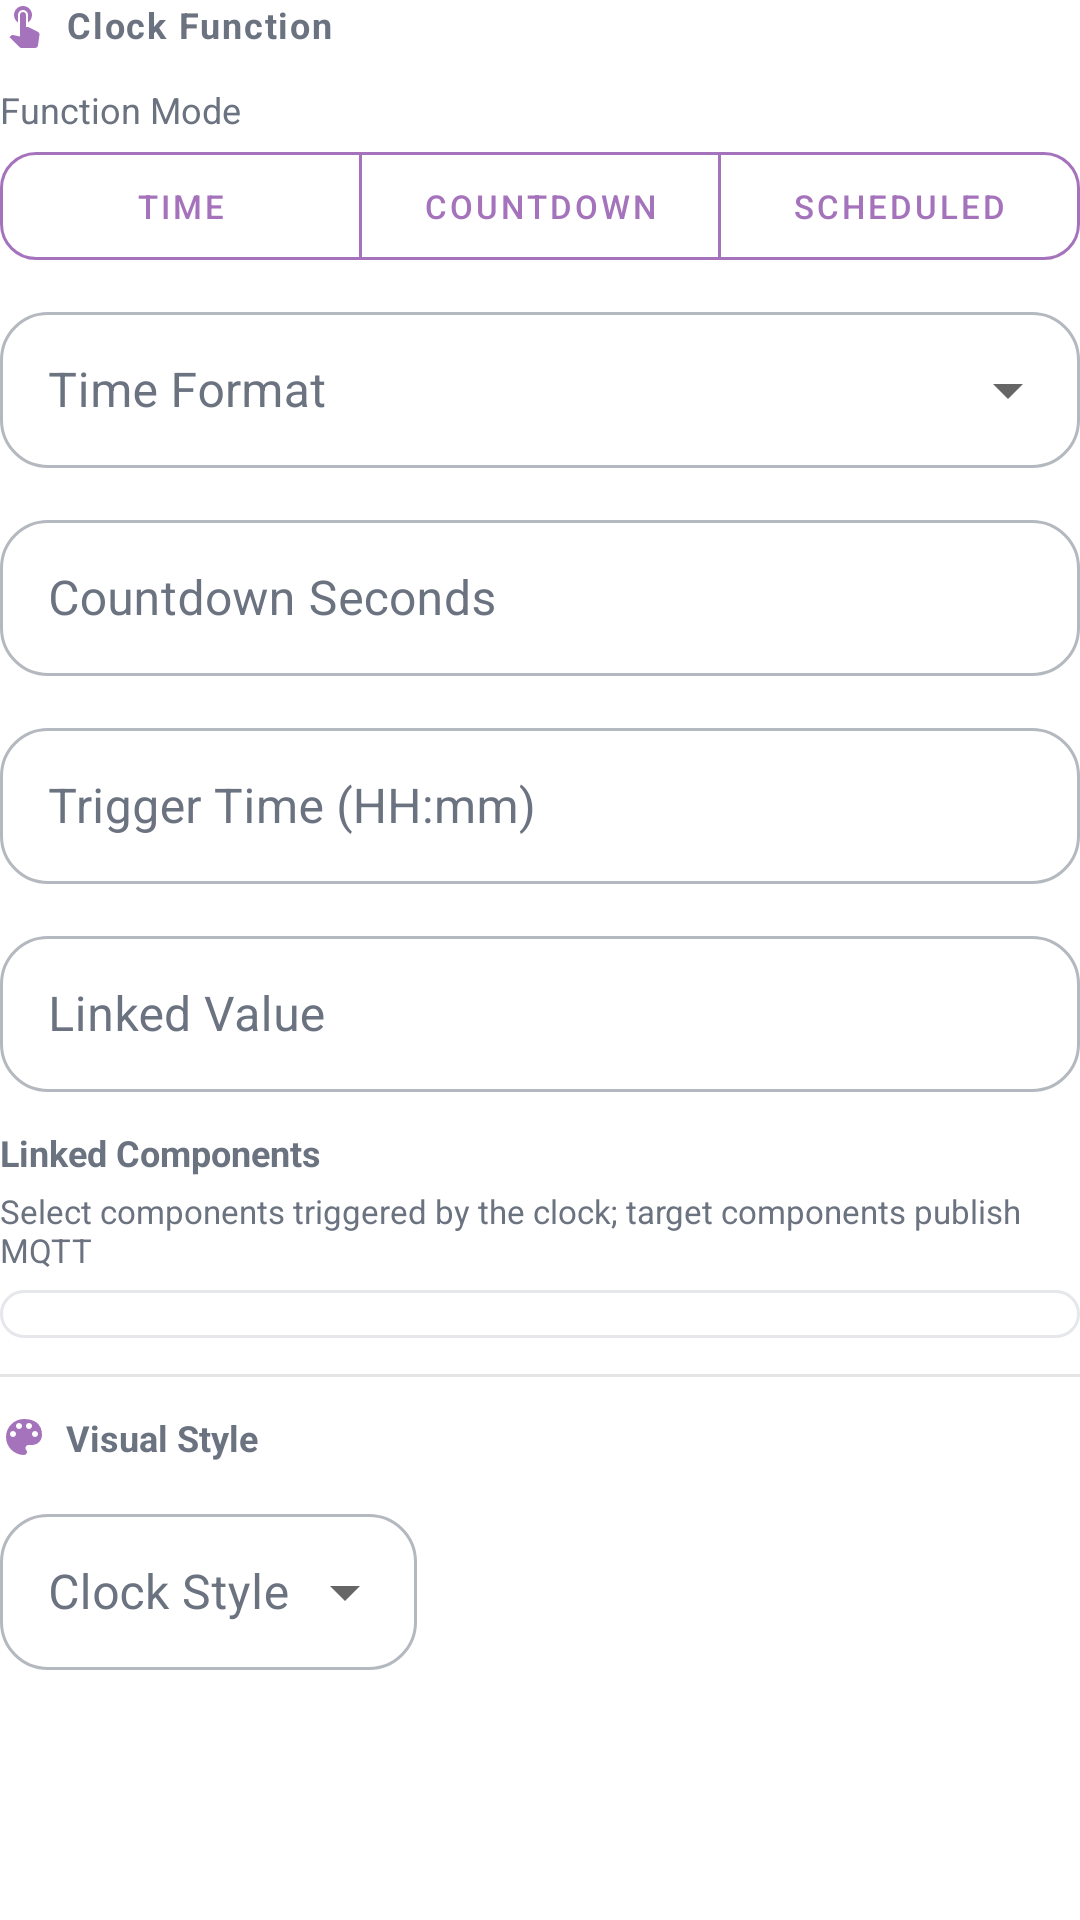

Screen size 1080×1920. Icon name, then its box in pixels as (x1, y1, x2, y2):
palette: (6, 1419, 42, 1455)
touch app: (9, 6, 40, 48)
